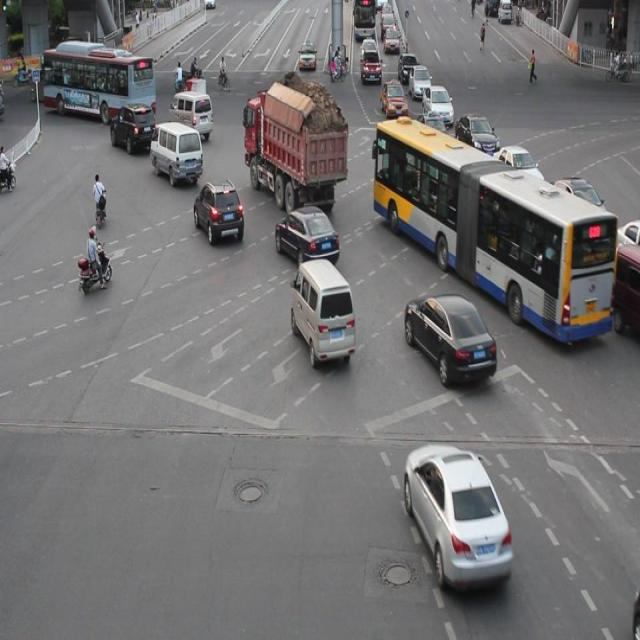bus: (242, 91, 347, 212)
car: (404, 442, 512, 590), (404, 292, 495, 384), (548, 176, 611, 242), (274, 205, 338, 267), (525, 222, 581, 289), (193, 180, 245, 243), (472, 178, 524, 235), (490, 142, 542, 197), (110, 102, 157, 153), (616, 243, 640, 336), (453, 112, 498, 158), (411, 112, 450, 156), (616, 218, 640, 268)
truck: (290, 256, 355, 361), (149, 121, 202, 184), (168, 90, 212, 140)
van: (374, 118, 614, 342)
